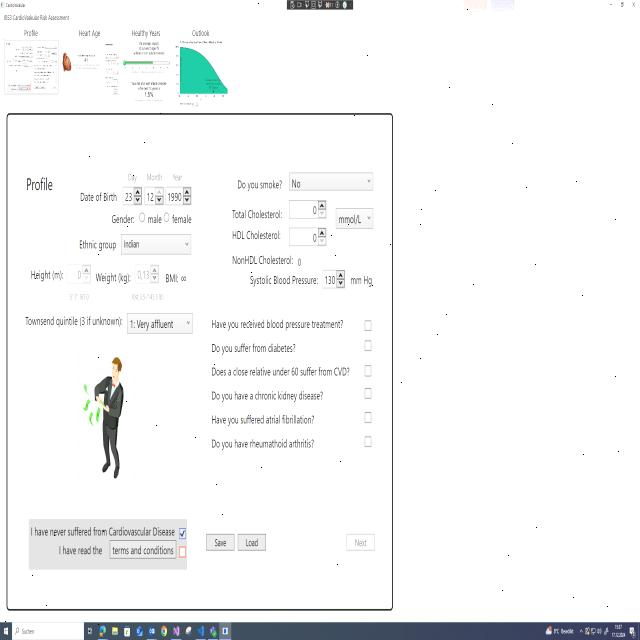button: (108, 540, 177, 562), (237, 530, 270, 556), (343, 530, 377, 554), (204, 530, 236, 555), (616, 0, 628, 10), (629, 0, 639, 10), (607, 0, 615, 9)
checkbox: (361, 408, 373, 428), (360, 317, 375, 333), (178, 522, 189, 542), (362, 360, 372, 380), (363, 433, 373, 451), (178, 543, 188, 560), (362, 340, 373, 355), (363, 386, 373, 400)
dropdownMenu: (286, 169, 374, 193), (125, 309, 194, 339), (120, 232, 194, 258), (334, 204, 375, 232), (554, 625, 584, 637)
icon: (209, 625, 217, 638), (160, 625, 168, 637), (629, 626, 637, 638), (173, 625, 180, 638), (198, 625, 205, 638), (136, 625, 143, 637), (100, 625, 106, 637), (124, 625, 130, 637), (546, 625, 552, 637), (148, 626, 155, 636), (185, 626, 192, 636), (112, 626, 118, 636), (584, 626, 590, 635), (590, 627, 596, 636), (597, 626, 602, 636), (604, 626, 609, 636), (4, 626, 8, 636), (88, 626, 92, 635)
input: (11, 621, 83, 640)
label: (206, 312, 350, 334), (208, 362, 353, 381), (26, 522, 176, 537), (210, 410, 318, 428), (24, 313, 124, 332), (210, 388, 328, 404), (208, 436, 316, 452), (209, 339, 301, 357), (0, 8, 71, 27), (228, 252, 294, 270), (71, 184, 119, 208), (244, 273, 319, 288), (227, 225, 285, 244), (234, 175, 286, 196), (54, 542, 104, 560), (231, 206, 285, 222), (25, 265, 65, 286), (24, 170, 56, 194), (94, 270, 131, 290), (76, 235, 118, 252), (350, 272, 378, 292), (164, 268, 189, 290), (129, 27, 164, 41), (128, 292, 168, 304), (106, 212, 135, 227), (65, 290, 91, 306), (170, 212, 197, 226), (76, 27, 103, 40), (121, 168, 141, 184), (189, 28, 213, 40), (145, 170, 164, 182), (22, 29, 42, 40), (147, 215, 162, 227), (171, 172, 185, 183)
menu: (1, 620, 640, 640)
radio: (162, 208, 170, 229), (139, 208, 146, 228)
tabControl: (220, 623, 232, 640)
upDown: (287, 222, 329, 251), (286, 195, 328, 223), (134, 262, 160, 289), (322, 266, 347, 294), (164, 186, 193, 209), (66, 261, 93, 285), (121, 186, 142, 209), (143, 188, 165, 206)
